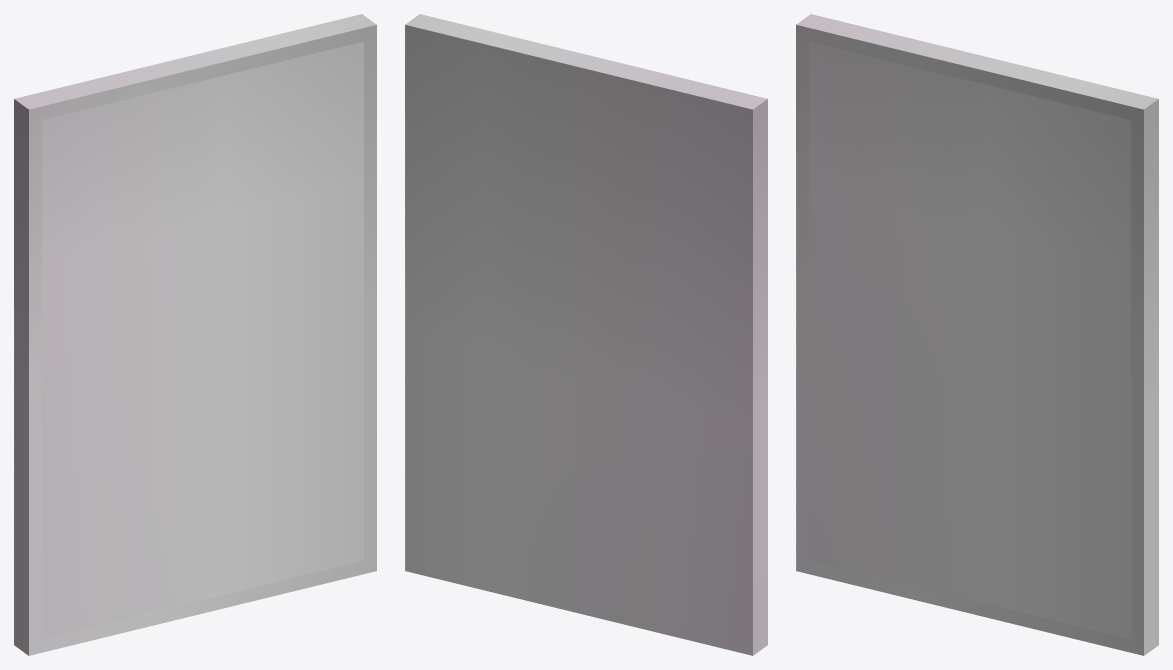
File: Mirror.fbx
3 views of the same model, side by side, from view 1: azimuth 30°, elevation 25°; view 2: azimuth 150°, elevation 25°; view 3: azimuth 330°, elevation 25° (orthographic).
Parts seen in each view (by area): view 1: Mirror; view 2: Mirror; view 3: Mirror.
Part boxes in pixels (x1,y1,x2,y2): Mirror: (14, 14, 376, 655); Mirror: (405, 14, 767, 655); Mirror: (796, 14, 1158, 655).
Bounding box in the file's own units: 54.62 × 81.95 × 4.
